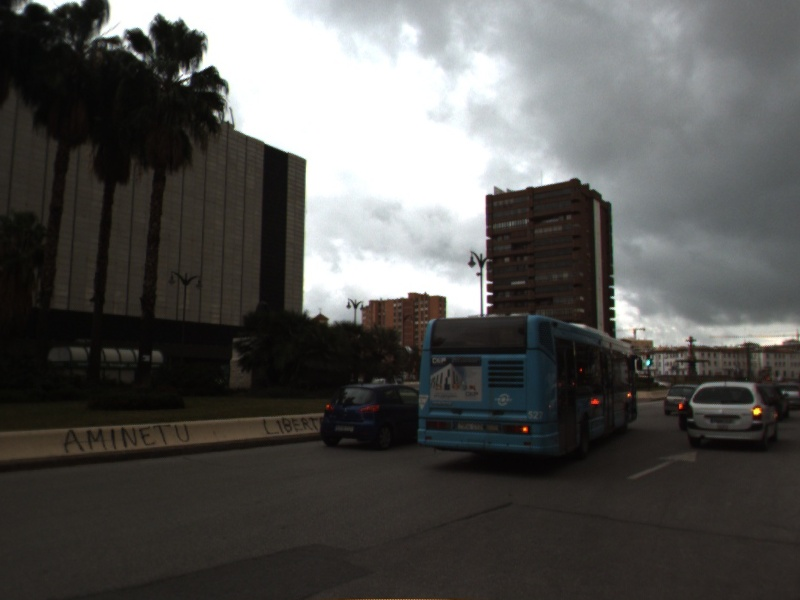STRAIGHT: (625, 449, 699, 482)
